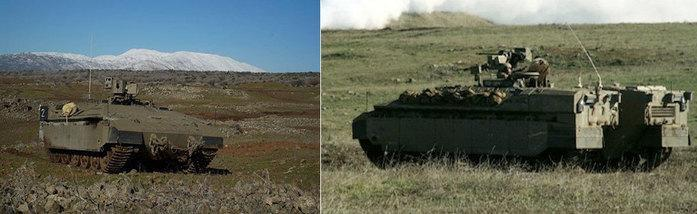MIL_IFV: (349, 44, 692, 173), (36, 77, 225, 174)
